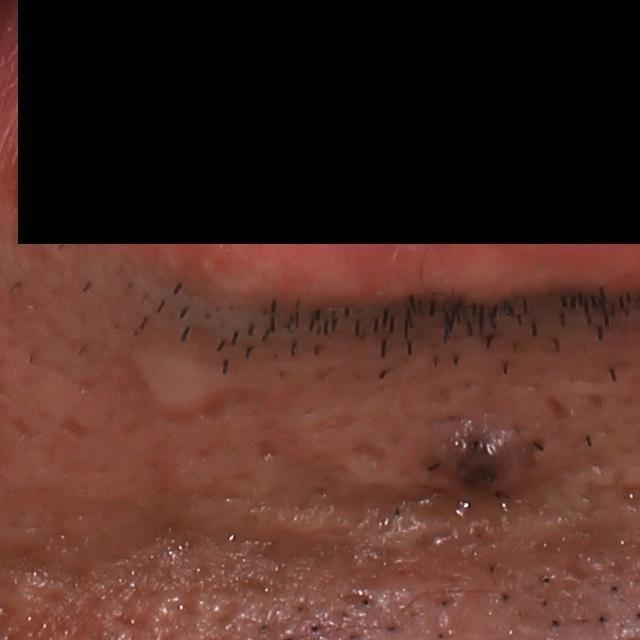atrophic_scar: (132, 520, 224, 587), (256, 455, 348, 522), (531, 525, 627, 585), (356, 480, 459, 534), (346, 440, 387, 473), (59, 414, 87, 441), (545, 394, 570, 422), (255, 438, 276, 463)
hypertrophic_scar: (179, 494, 383, 557), (129, 347, 238, 414)
nevus: (429, 409, 540, 501)
